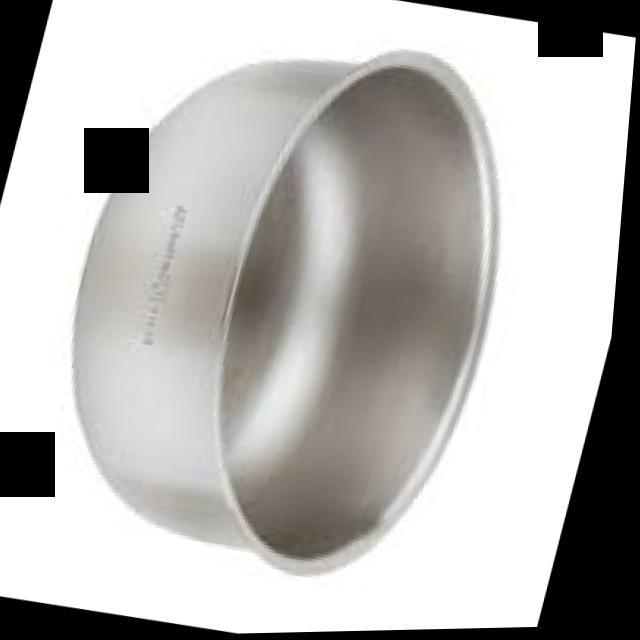Sponge Bowl: (16, 1, 576, 614)
